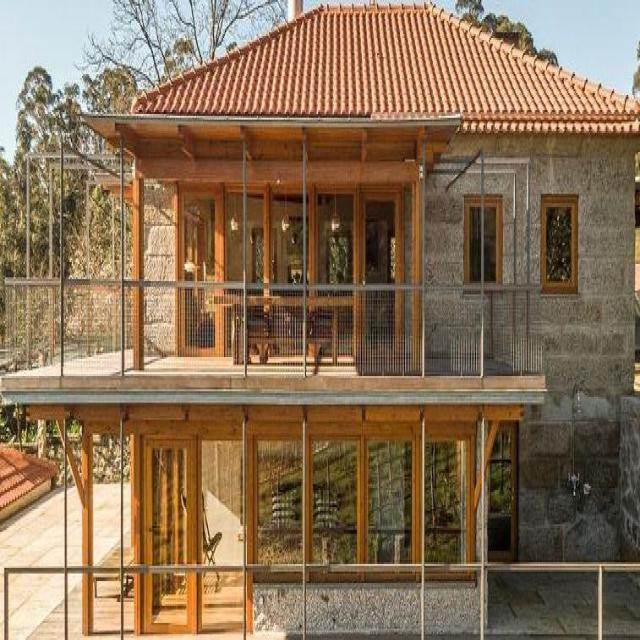door: (142, 437, 245, 638), (178, 185, 228, 283), (486, 430, 518, 563)
railing: (7, 280, 544, 377)
window: (248, 432, 472, 576), (176, 185, 403, 284), (541, 197, 577, 291), (463, 197, 502, 281)
